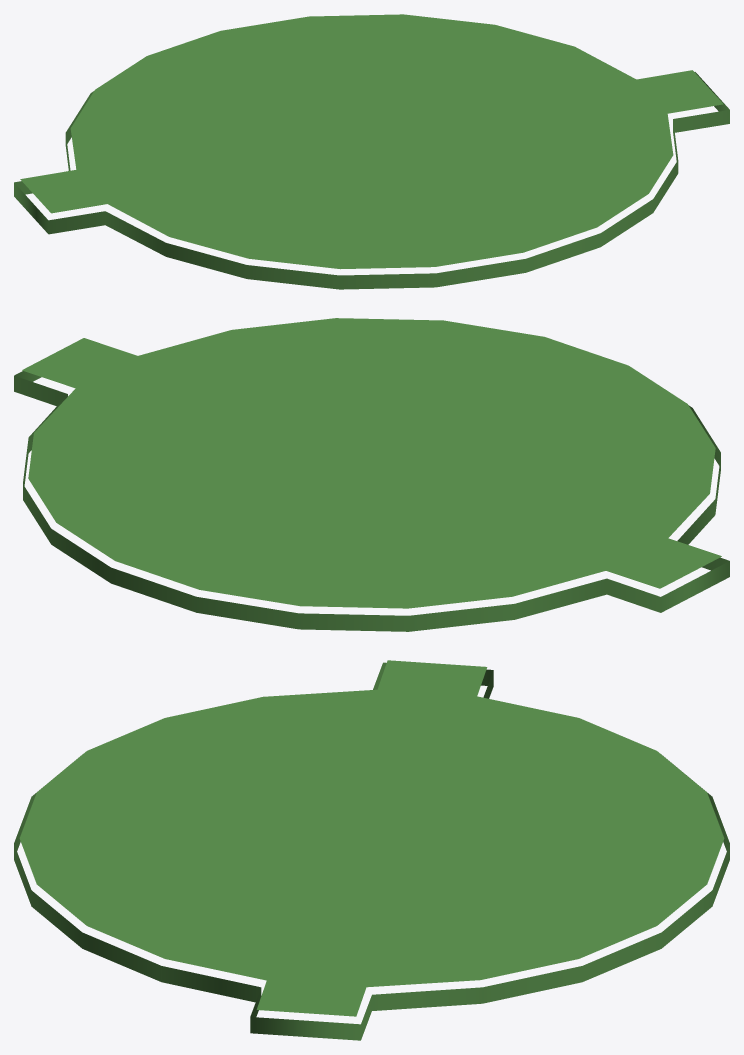
Rendered from sewer 1 lod1.FBX.
3 views of the same model, one above another, from view 1: azimuth 30°, elevation 25°; view 2: azimuth 150°, elevation 25°; view 3: azimuth 270°, elevation 25° (orthographic). The views are drawn at different scales.
Parts seen in each view (by area): view 1: Object344; view 2: Object344; view 3: Object344.
Part boxes in pixels (left/top/right/bottom): Object344: left=14, top=14, right=729, bottom=289; Object344: left=14, top=318, right=729, bottom=631; Object344: left=14, top=660, right=729, bottom=1040.
Size of the model in its own units: 1.09 by 0.03 by 0.91.
